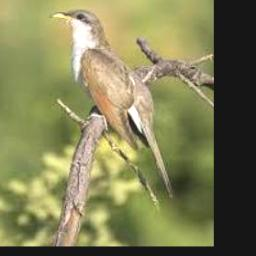Cuckoo: (50, 8, 174, 195)
